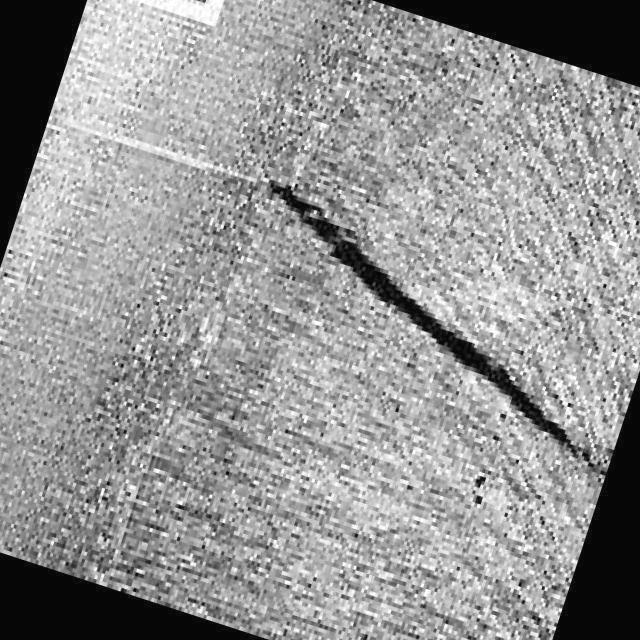defect: (257, 179, 607, 487)
